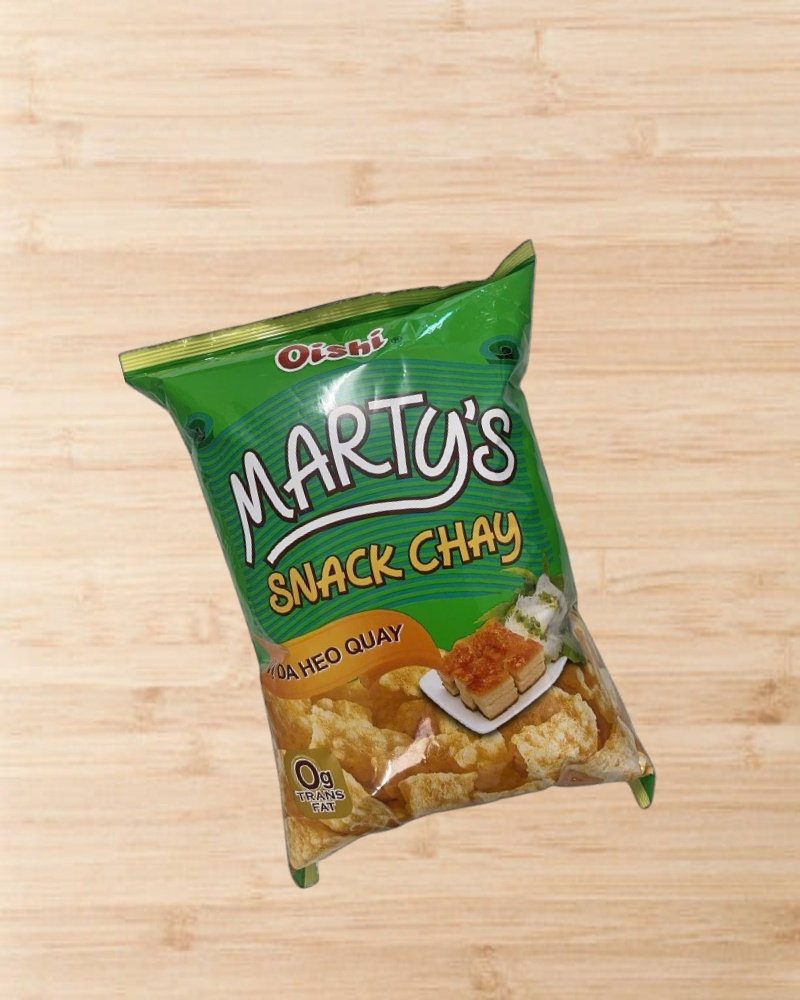Snack chay: (118, 239, 682, 910)
